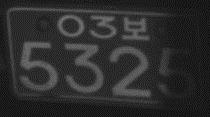0: (56, 13, 85, 38)
2: (109, 44, 152, 98)
3: (63, 42, 104, 94), (89, 14, 117, 40)
5: (18, 41, 58, 92), (158, 47, 195, 98)
보: (121, 16, 149, 41)
